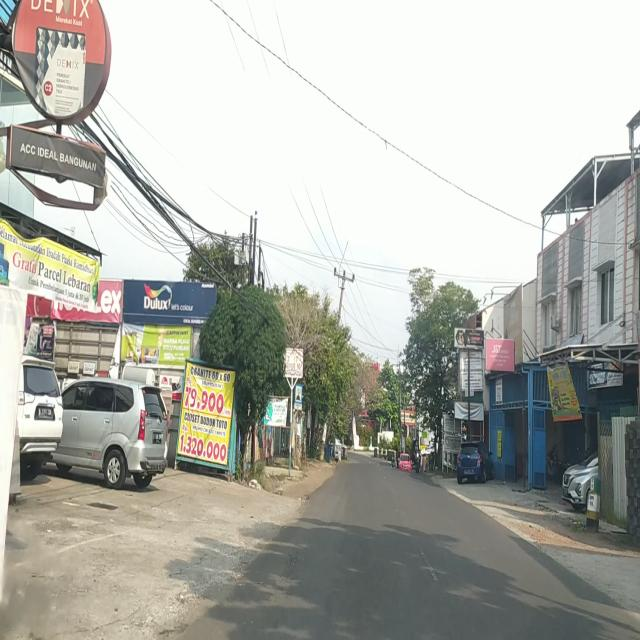Drain Hole: (269, 546, 303, 600)
